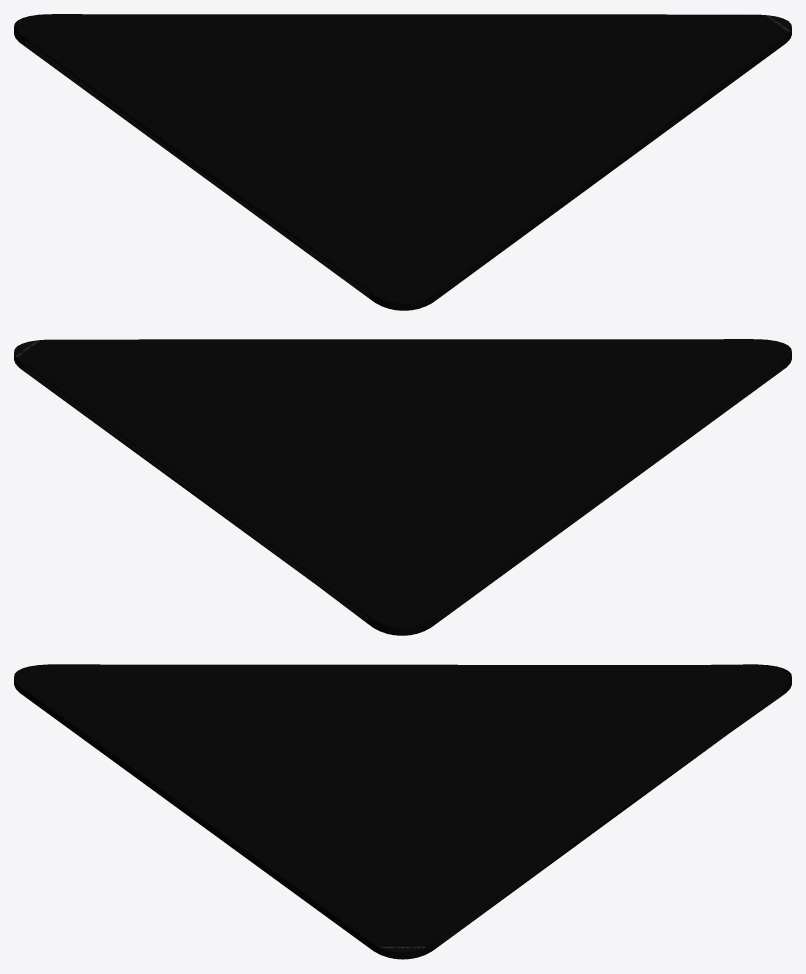
3 renders of one model, top to bottom at view 1: azimuth 30°, elevation 25°; view 2: azimuth 150°, elevation 25°; view 3: azimuth 270°, elevation 25°, orthographic.
Parts seen in each view (by area): view 1: Cube.003; view 2: Cube.003; view 3: Cube.003.
Boxes of the visible parts, <box> form: Cube.003: <box>14,14,791,310</box>; Cube.003: <box>14,339,791,635</box>; Cube.003: <box>14,664,791,959</box>.
Bounding box in the file's own units: 0.0743 × 0.000864 × 0.0849.
1 material, 1 textured.
